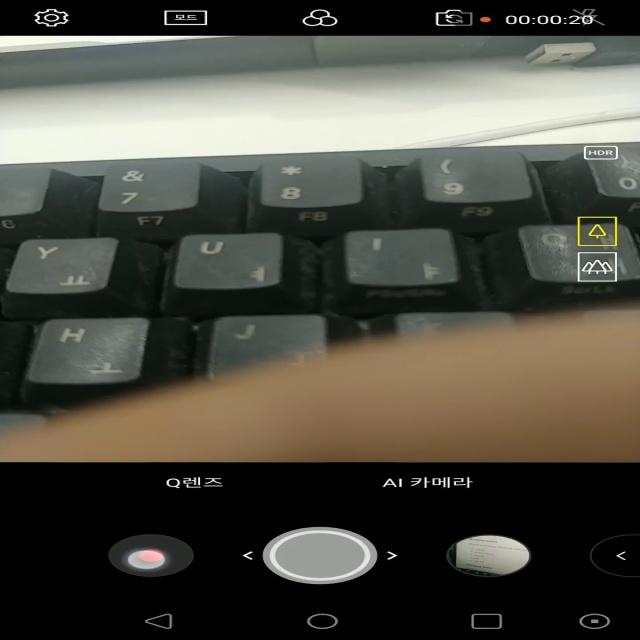Cursor: (124, 550, 168, 572)
